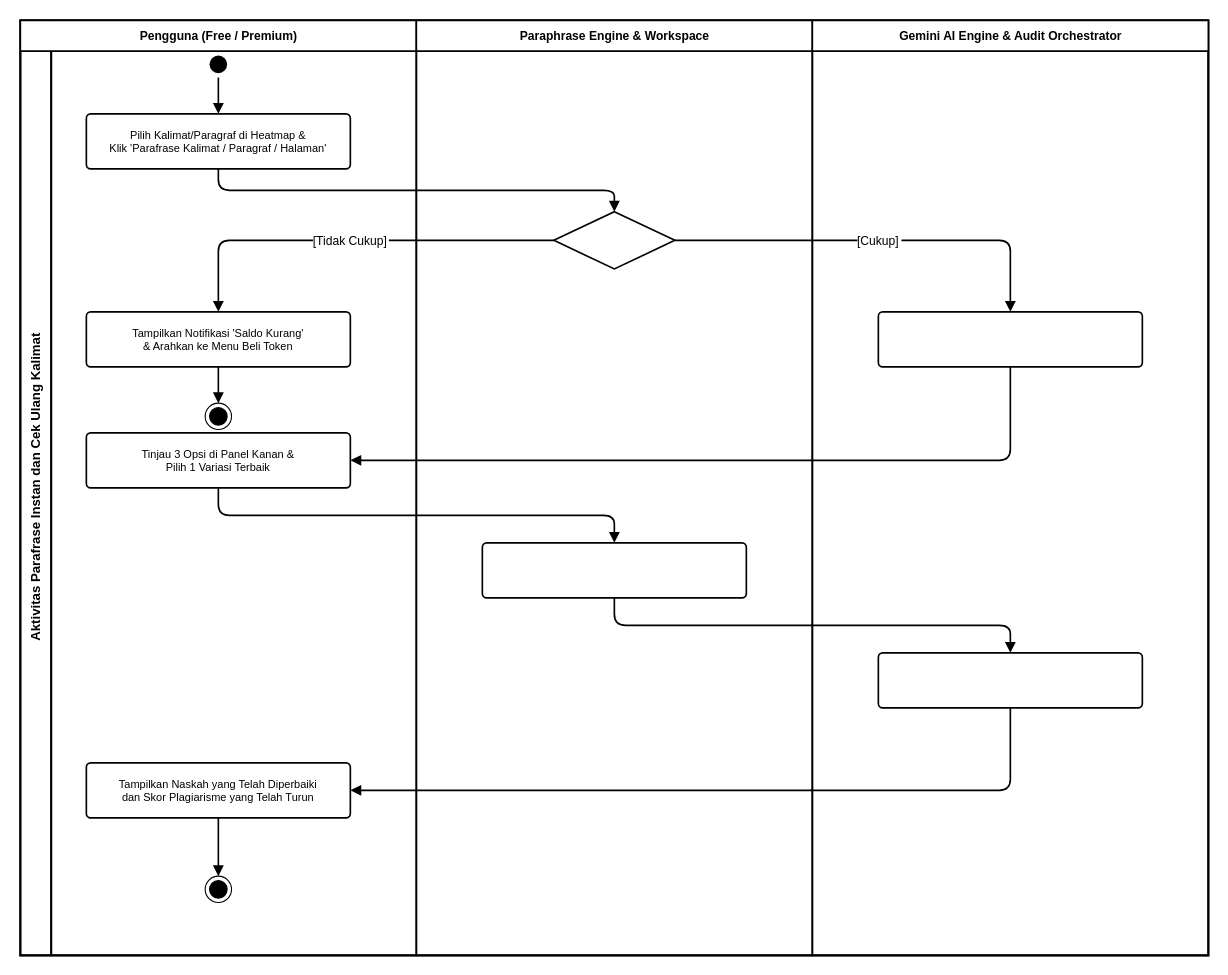
Image size: 1228x975. Some labels were removed from this diagram. The shapes that lost their labels are listed below. From the top down, each one's centre as x and y in pixels, then its label:
point 614,239: Kredit AI Mencukupi?
point 1010,339: Hasilkan 3 Opsi Variasi Parafrase Ilmiah lengkap dengan Estimasi Penurunan Skor
point 614,570: Perbarui Teks Naskah Secara In-Place dan Hitung Ulang Skor Kemiripan
point 1010,680: Simpan Perubahan ke Database & Ubah Sorotan Kalimat Menjadi Hijau
